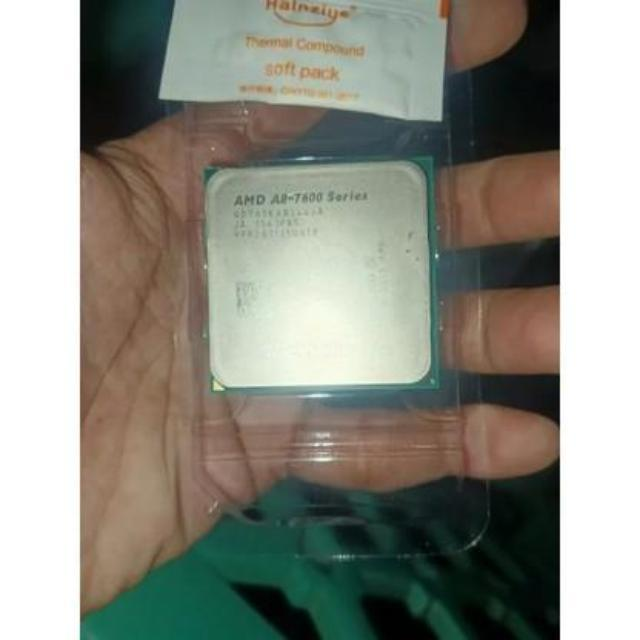CPU: (201, 162, 441, 392)
